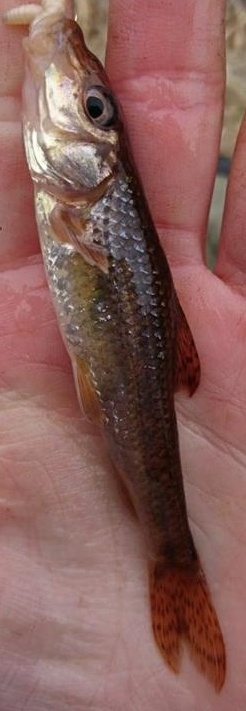Gobio gobio: (20, 20, 226, 691)
